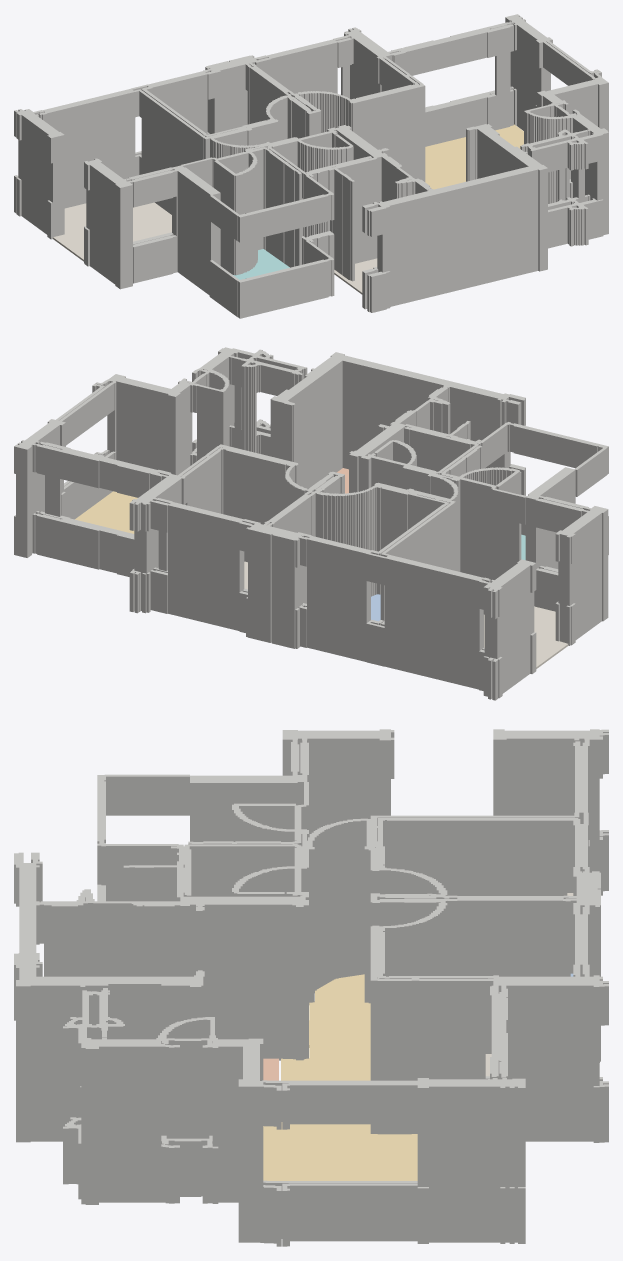
The picture shows the model from 3 angles, top to bottom: view 1: azimuth 30°, elevation 25°; view 2: azimuth 150°, elevation 25°; view 3: azimuth 270°, elevation 25°; orthographic projection. The views are drawn at different scales.
Visible parts, largest first — view 1: walls, room:other:6, room:living:1, room:bath:3, room:other:10; view 2: walls, room:living:1, room:other:6; view 3: walls, room:living:1.
Boxes of the visible parts, <box> form: walls: <box>14,14,608,318</box>; room:other:6: <box>53,202,171,261</box>; room:living:1: <box>425,124,523,189</box>; room:bath:3: <box>233,249,289,279</box>; room:other:10: <box>334,258,377,294</box>; walls: <box>14,347,608,700</box>; room:living:1: <box>75,491,137,533</box>; room:other:6: <box>484,606,568,668</box>; walls: <box>14,729,608,1246</box>; room:living:1: <box>263,974,417,1180</box>.
Size of the model in its own units: 13.9 by 2.8 by 9.68.
